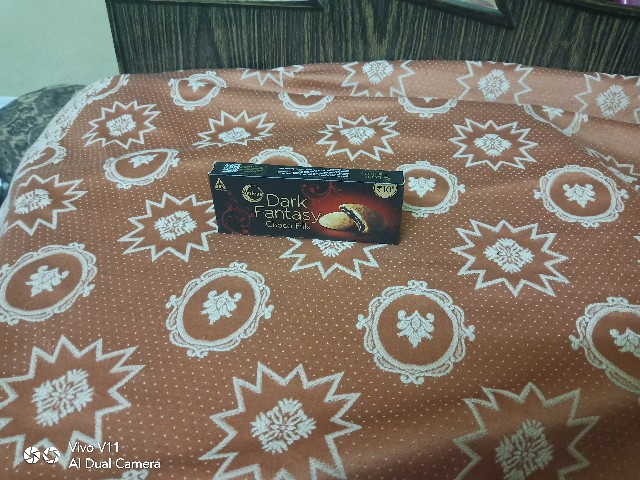darkfantasy small: (194, 156, 426, 253)
